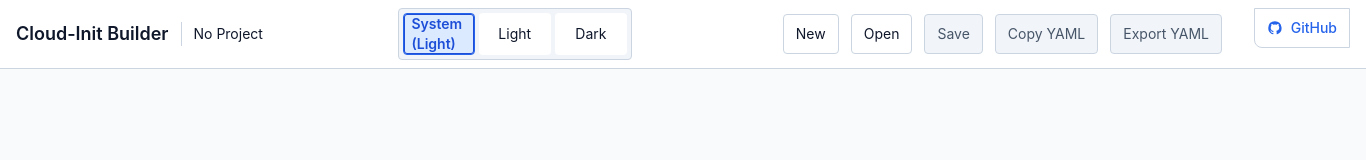
Test case: TopBar project rename › still creates Untitled Project immediately from New without a naming prompt
The image size is (1366, 160).
Click the button "New" at [811, 34], box [783,14,839,54]
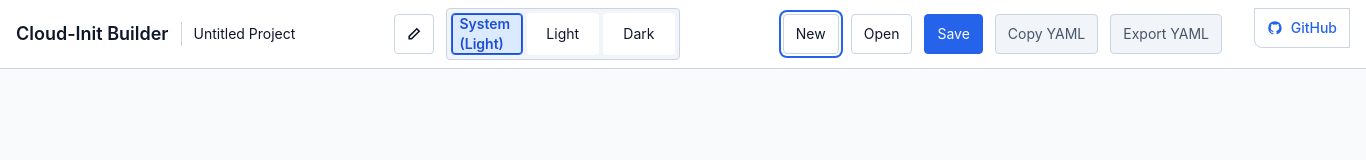
Result: the text "Untitled Project" is shown at [194,25,295,42]
